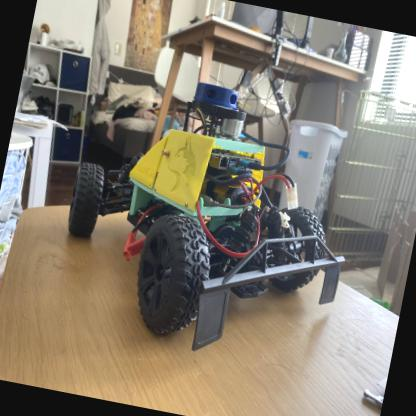mushr_car: (42, 54, 376, 384)
